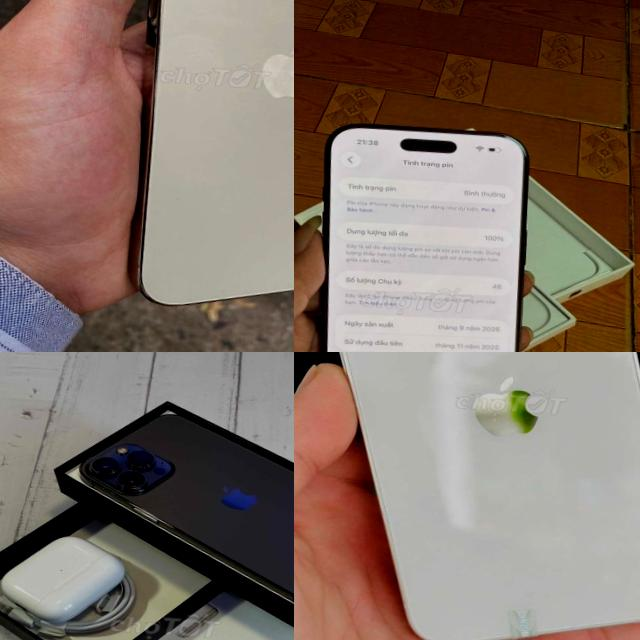gen_12_13: (294, 352, 640, 640), (58, 399, 294, 623)
gen_14: (114, 0, 294, 323)
gen_17: (301, 118, 544, 352)
